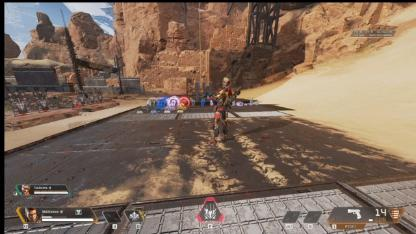Target: (210, 78, 233, 144), (74, 99, 82, 113)
